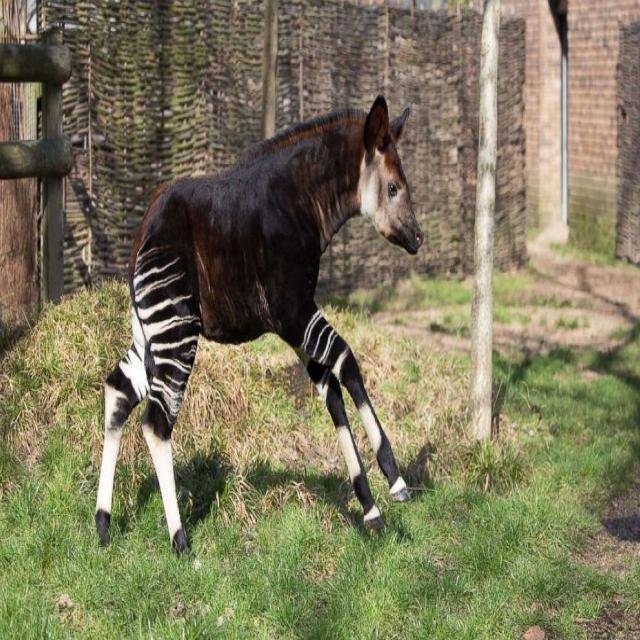Okapi: (80, 105, 475, 518)
